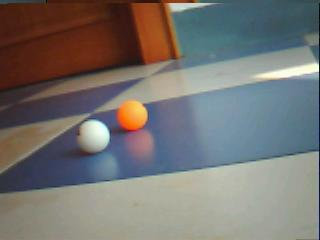oball: (117, 101, 147, 130)
